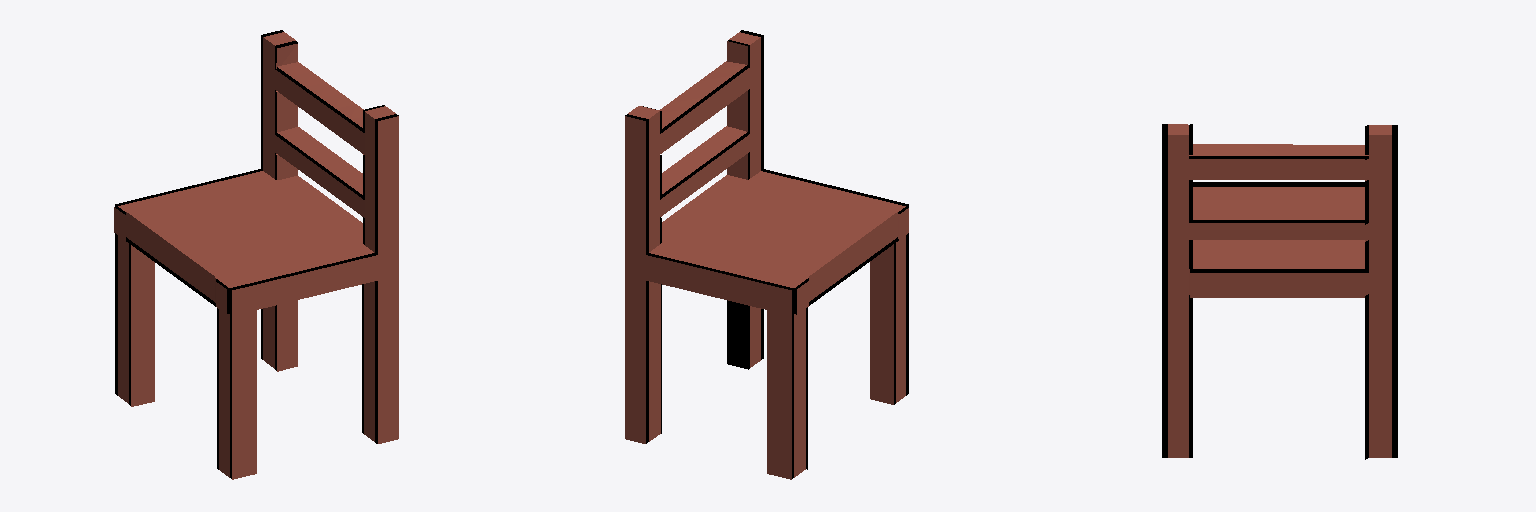
File: chair.obj
3 renders of one model, left to right at view 1: azimuth 30°, elevation 25°; view 2: azimuth 150°, elevation 25°; view 3: azimuth 270°, elevation 25°, orthographic.
Parts seen in each view (by area): view 1: pCube1; view 2: pCube1; view 3: pCube1.
Part boxes in pixels (left/top/right/bottom): pCube1: left=114, top=30, right=398, bottom=479; pCube1: left=625, top=30, right=908, bottom=479; pCube1: left=1162, top=124, right=1397, bottom=459.
Bounding box in the file's own units: 2.92 × 5.31 × 3.48.